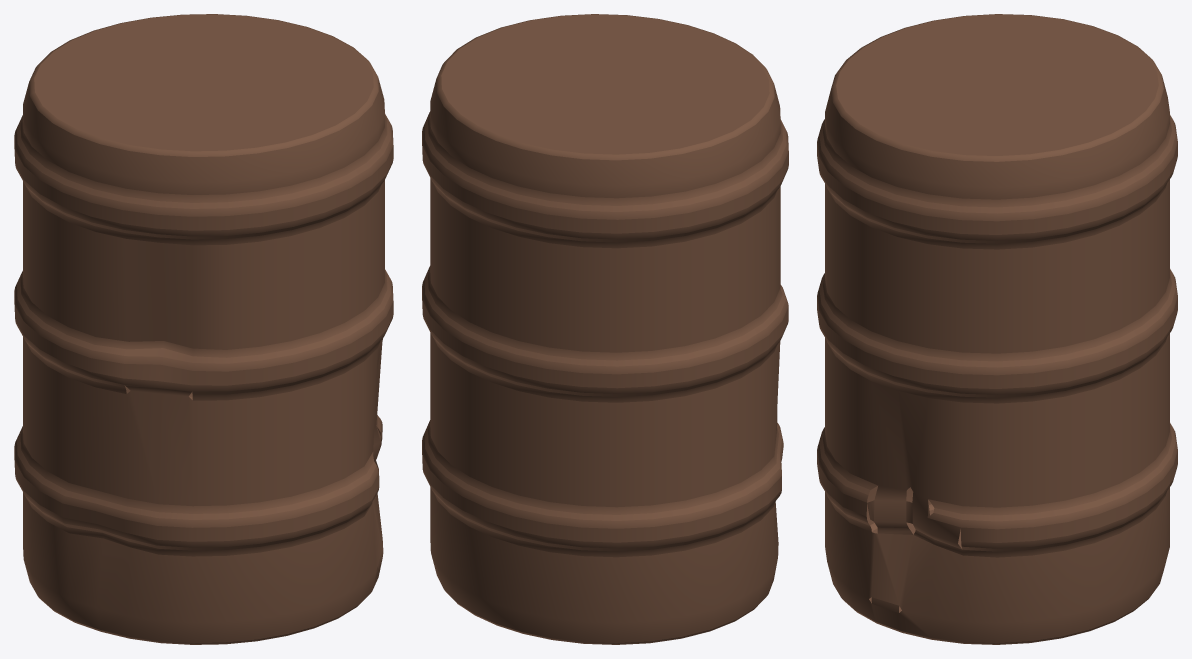
Rendered from pit_barrel.glb.
The picture shows the model from 3 angles, left to right: view 1: azimuth 30°, elevation 25°; view 2: azimuth 150°, elevation 25°; view 3: azimuth 270°, elevation 25°; orthographic projection.
Size of the model in its own units: 0.64 by 0.934 by 0.616.
